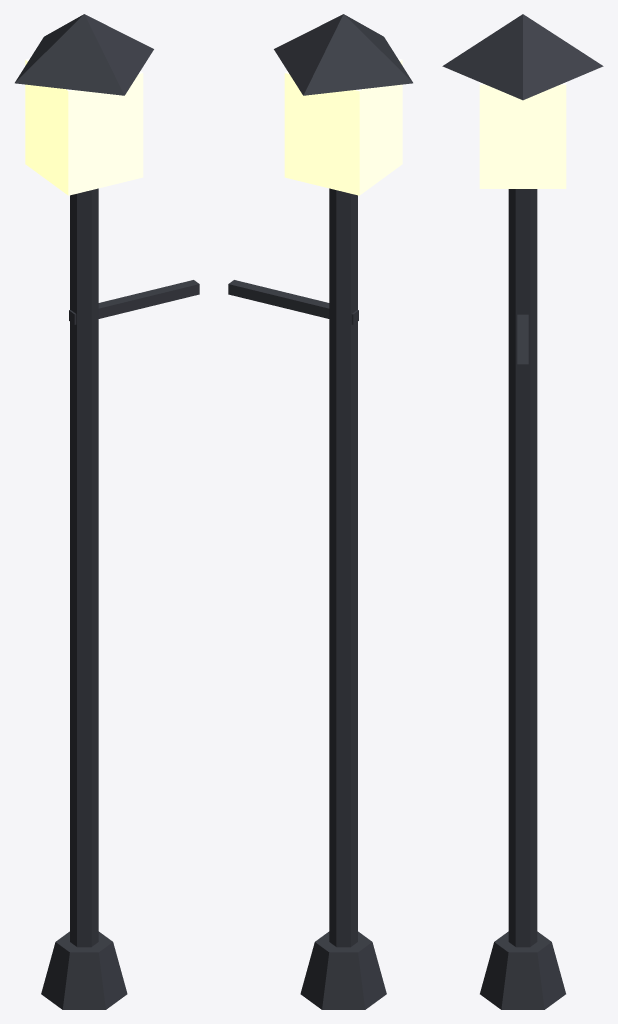
Rendered from park_lamp.fbx.
3 views of the same model, side by side, from view 1: azimuth 30°, elevation 25°; view 2: azimuth 150°, elevation 25°; view 3: azimuth 270°, elevation 25° (orthographic).
Parts seen in each view (by area): view 1: park_lamp; view 2: park_lamp; view 3: park_lamp.
Part boxes in pixels (bbox=[...]): park_lamp: bbox=[15, 14, 199, 1009]; park_lamp: bbox=[228, 14, 412, 1009]; park_lamp: bbox=[442, 14, 603, 1009].
Bounding box in the file's own units: 0.73 × 3.75 × 0.56.
